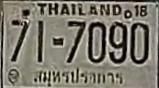0: (130, 21, 148, 63), (87, 21, 105, 62)
1: (37, 19, 43, 62)
7: (66, 20, 86, 62), (10, 19, 29, 61)
9: (108, 22, 126, 62)
SPK: (31, 66, 129, 88)
